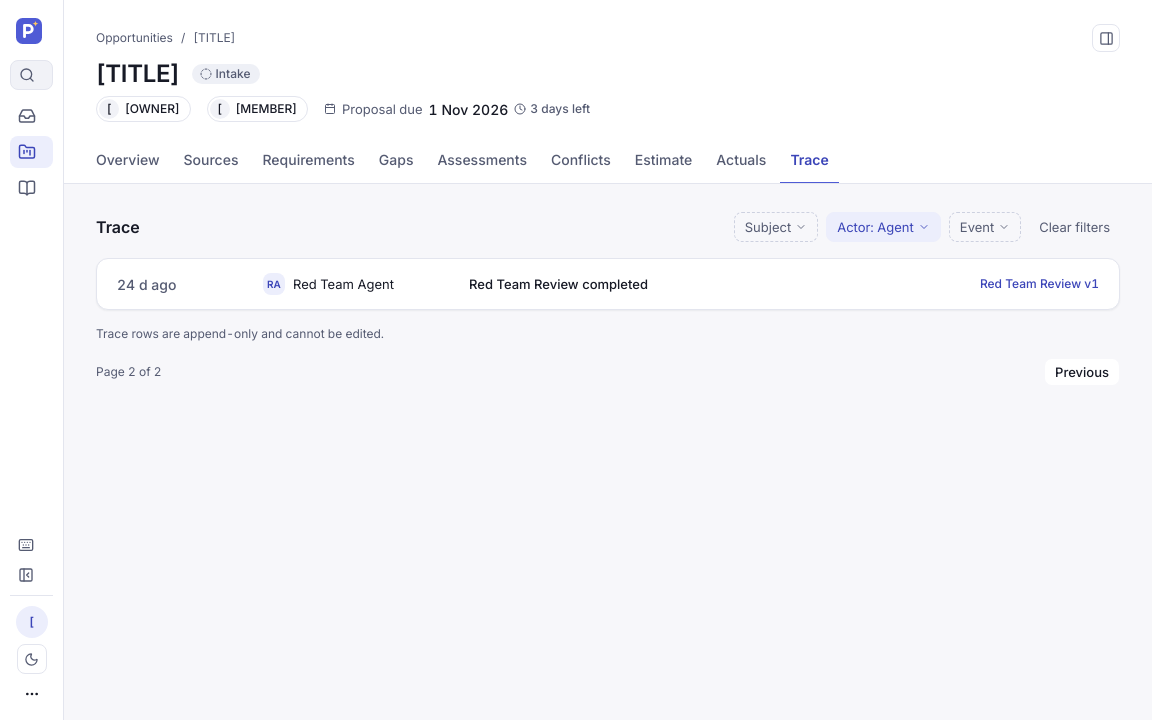
Test: /opportunities/[id] workspace › tab URL /trace?actor=agent: the filters and page come from the URL
The width and height of the screenshot is (1152, 720).
Expected: the link "Clear filters" is shown, [1039,219,1110,235]
Click the button "Actor: Agent": point(884, 227) [826,212,941,242]
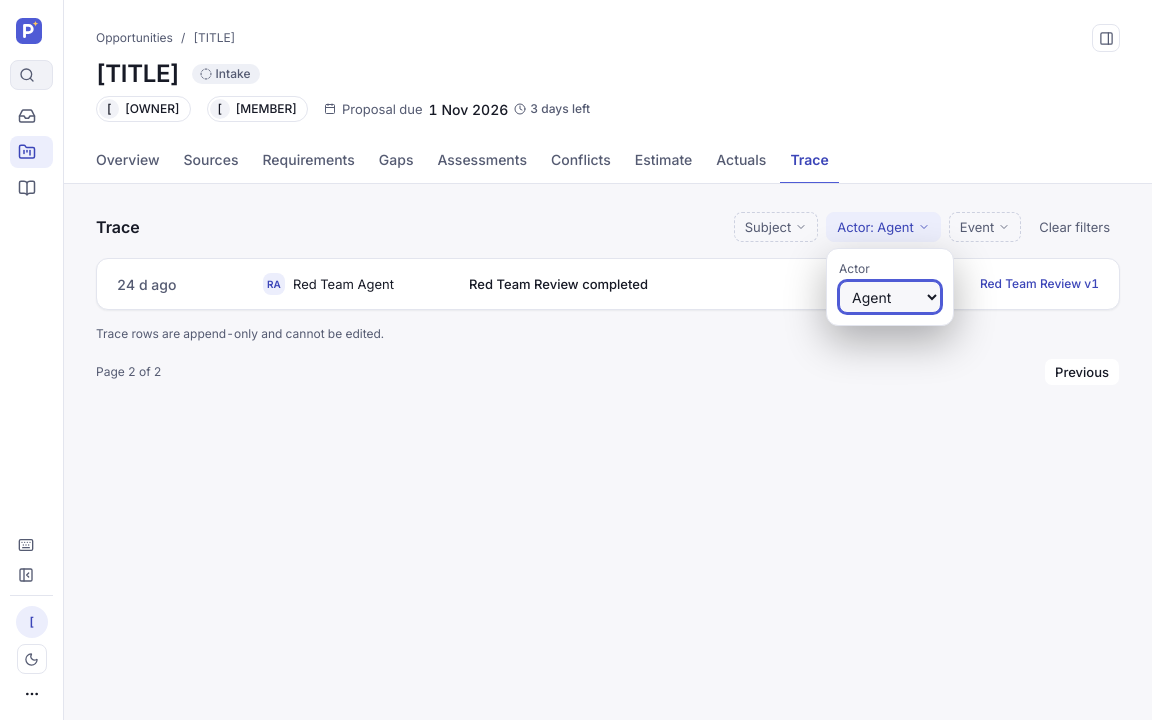
Expected: the text "Page 2 of 2" is shown, [96,364,162,380]
Expected: the dialog named "Actor filter" is shown, [826,248,954,326]
Expected: the dropdown labelled "Actor" shows "Agent", [839,281,941,313]
